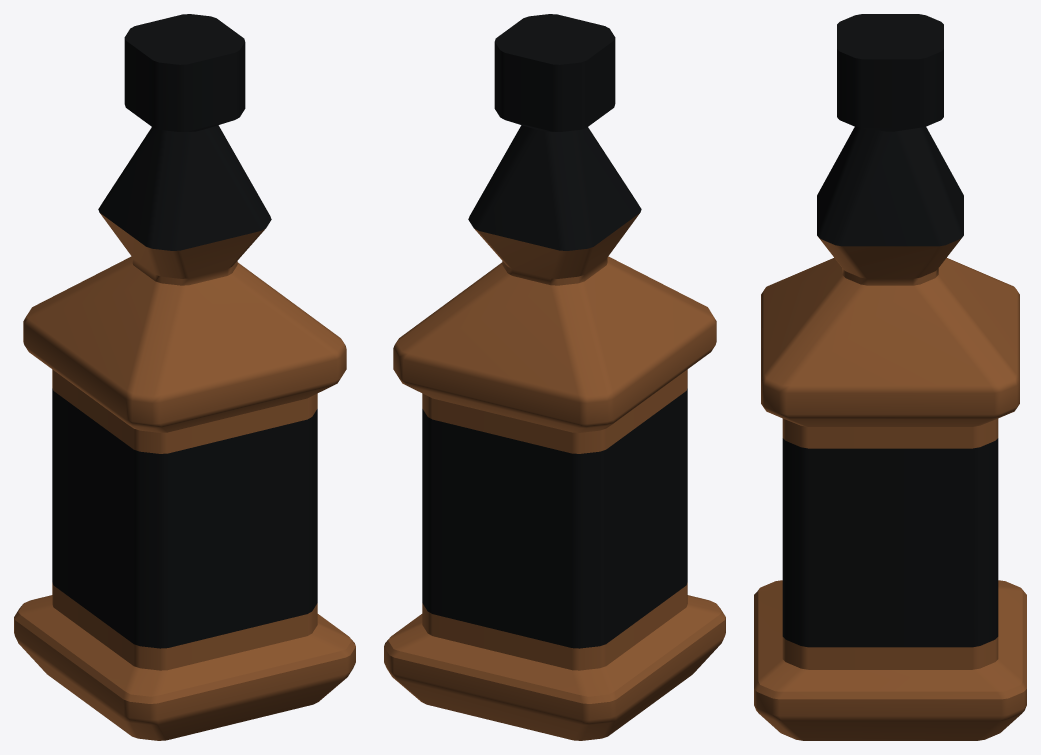
File: 01fles5_nieuwestijl.fbx
3 views of the same model, side by side, from view 1: azimuth 30°, elevation 25°; view 2: azimuth 150°, elevation 25°; view 3: azimuth 270°, elevation 25° (orthographic). The views are drawn at different scales.
Parts seen in each view (by area): view 1: pCube153; view 2: pCube153; view 3: pCube153.
Boxes of the visible parts, <box> form: pCube153: <box>14,14,355,740</box>; pCube153: <box>384,14,725,740</box>; pCube153: <box>754,14,1026,740</box>.
Bounding box in the file's own units: 0.2425 × 0.6438 × 0.2425.
